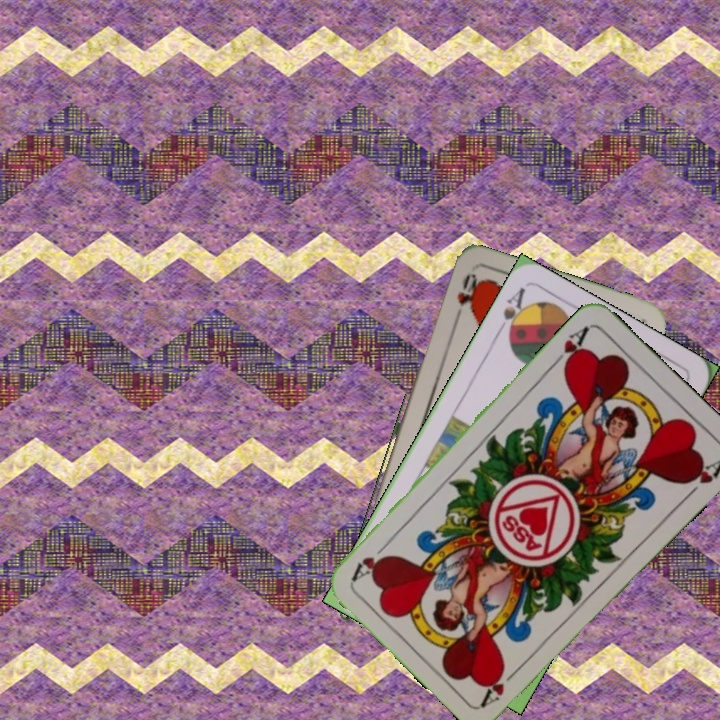HA: (547, 322, 592, 374), (478, 661, 525, 708)
HO: (450, 269, 479, 326)
SA: (492, 283, 532, 342)
